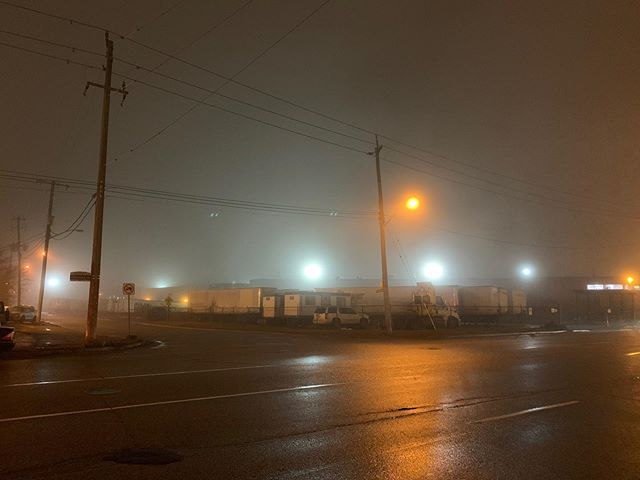power pole: (69, 26, 130, 344), (359, 129, 402, 333)
sky: (1, 1, 633, 266)
street: (1, 335, 640, 480)
